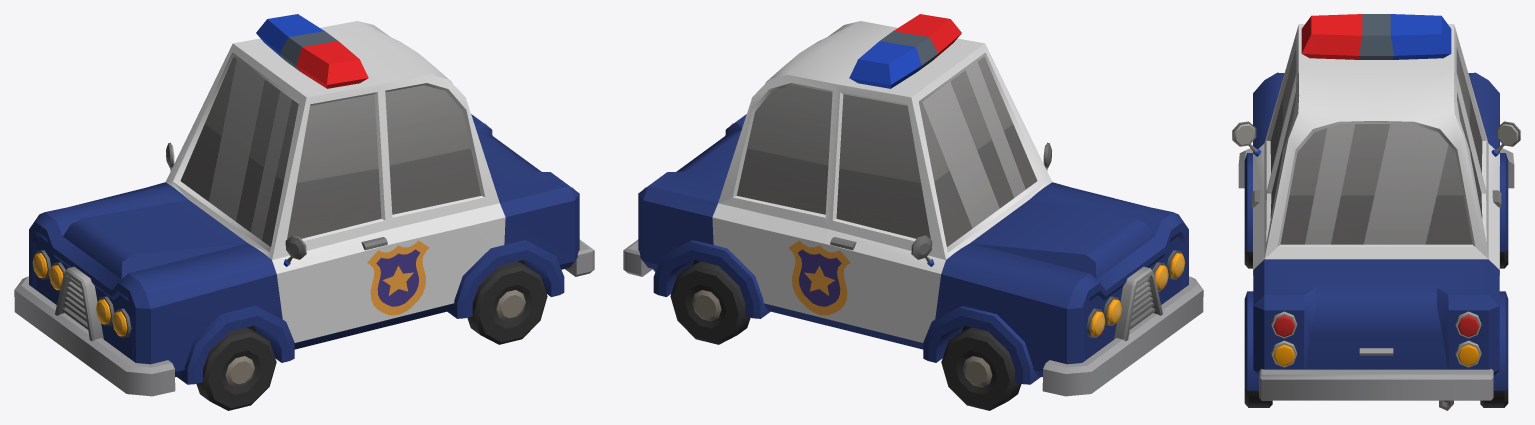
Rendered from Car_Police_4_B_2.gltf.
The picture shows the model from 3 angles, left to right: view 1: azimuth 30°, elevation 25°; view 2: azimuth 150°, elevation 25°; view 3: azimuth 270°, elevation 25°; orthographic projection. The views are drawn at different scales.
Parts seen in each view (by area): view 1: Car_Police_4_B_2, RL, FL; view 2: Car_Police_4_B_2, RR, FR; view 3: Car_Police_4_B_2, RL, RR.
Boxes of the visible parts, x1=… form: Car_Police_4_B_2: x1=14, y1=14, x2=594, y2=396; RL: x1=467, y1=261, x2=547, y2=344; FL: x1=196, y1=327, x2=276, y2=410; Car_Police_4_B_2: x1=623, y1=14, x2=1203, y2=396; RR: x1=670, y1=261, x2=750, y2=344; FR: x1=941, y1=327, x2=1021, y2=410; Car_Police_4_B_2: x1=1232, y1=14, x2=1520, y2=410; RL: x1=1244, y1=388, x2=1272, y2=407; RR: x1=1480, y1=388, x2=1508, y2=407.
Bounding box in the file's own units: 3.36 × 2 × 1.7.
3 materials, 3 textured.
